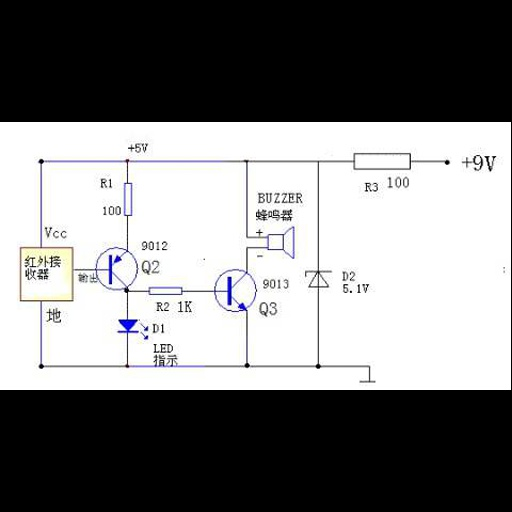firstled: (114, 316, 151, 343)
firstresistance: (350, 148, 415, 173), (145, 283, 184, 297), (122, 178, 134, 219)
loudspeaker: (267, 224, 298, 261)
npn: (221, 272, 250, 309)
pnp: (103, 250, 129, 288)
